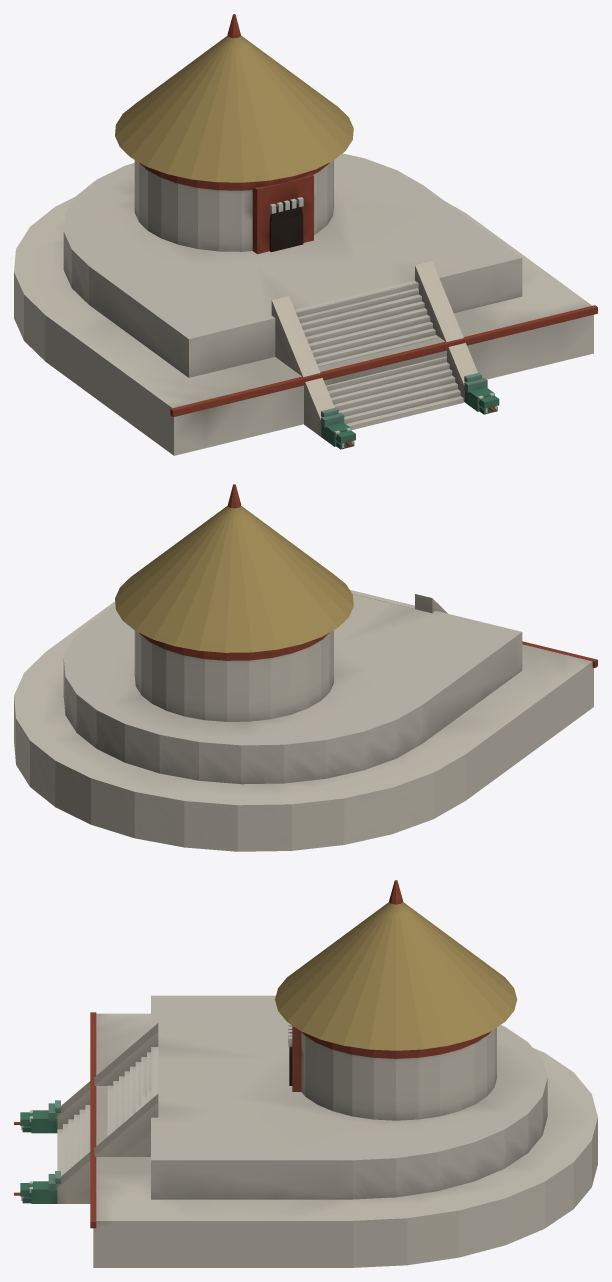
The model's file is temple-of-ehecatl.glb.
3 renders of one model, top to bottom at view 1: azimuth 30°, elevation 25°; view 2: azimuth 150°, elevation 25°; view 3: azimuth 270°, elevation 25°, orthographic.
Parts seen in each view (by area): view 1: p0_platform, p2_cella, p1_stair; view 2: p0_platform, p2_cella, p1_stair; view 3: p0_platform, p2_cella, p1_stair.
Boxes of the visible parts, <box> form: p0_platform: <box>14,153,597,455</box>; p2_cella: <box>115,14,353,254</box>; p1_stair: <box>271,261,499,449</box>; p0_platform: <box>14,590,597,851</box>; p2_cella: <box>115,484,353,721</box>; p1_stair: <box>350,590,447,613</box>; p0_platform: <box>90,995,597,1267</box>; p2_cella: <box>275,880,517,1120</box>; p1_stair: <box>14,1023,158,1203</box>.
Bounding box in the file's own units: 34.4 × 21.71 × 40.5.
